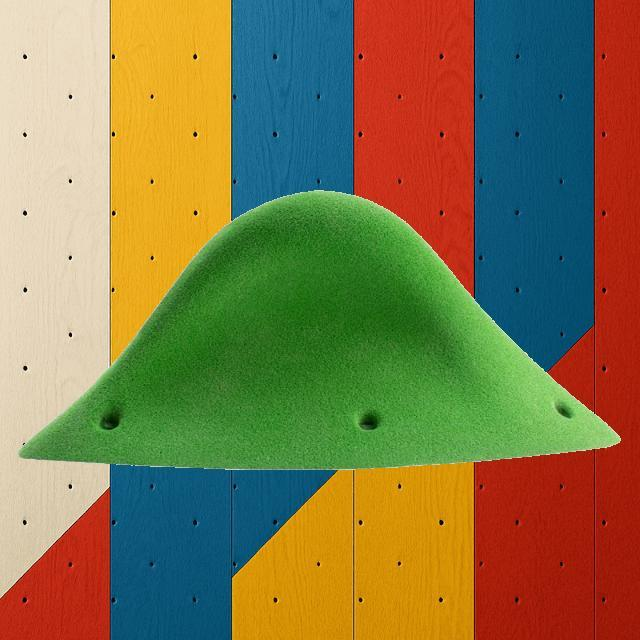Jug: (17, 188, 621, 470)
